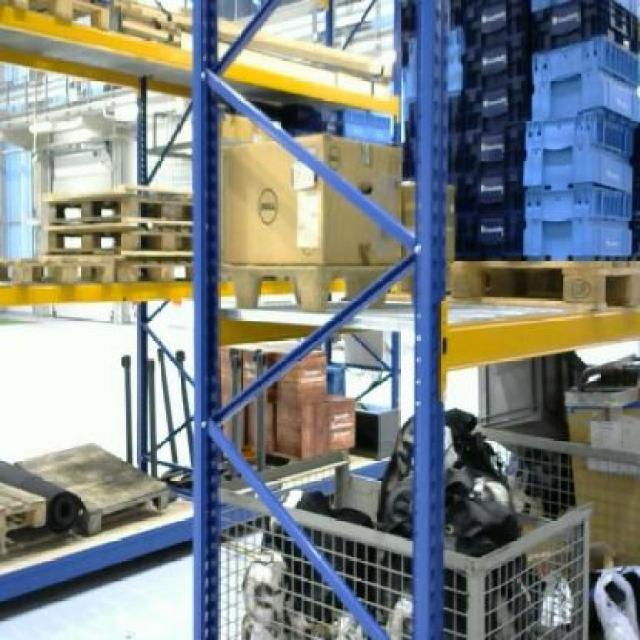box: (220, 136, 402, 262), (274, 398, 334, 457), (274, 346, 328, 402), (326, 396, 356, 454)
